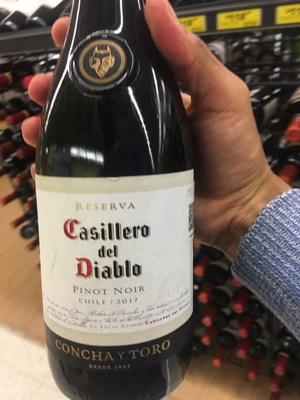casillero del diablo pinot noir: (26, 33, 210, 399)
